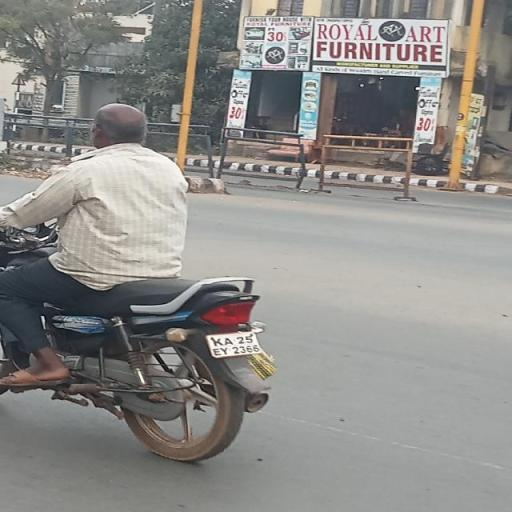bike: (0, 93, 284, 463)
numberplate: (203, 326, 268, 360)
withouthelmet: (96, 104, 147, 144)
